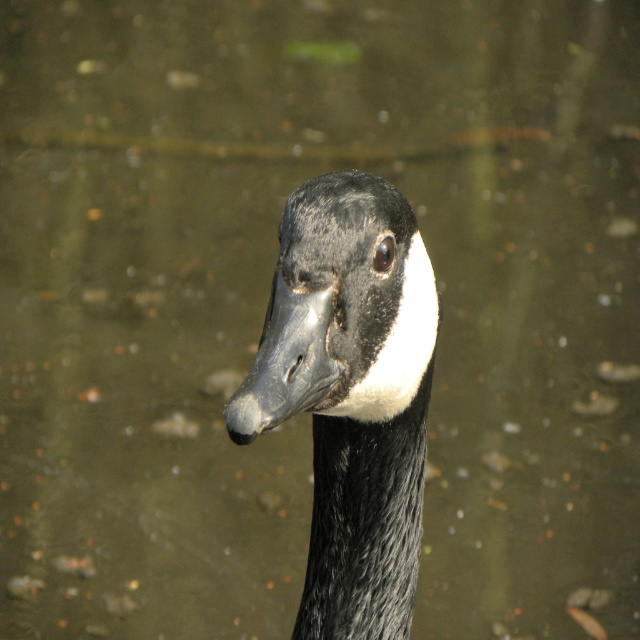Goose: (222, 187, 450, 640)
